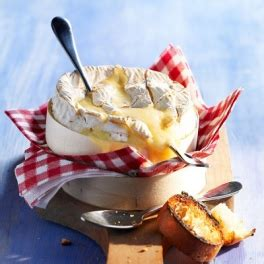camembert: (50, 64, 193, 157)
